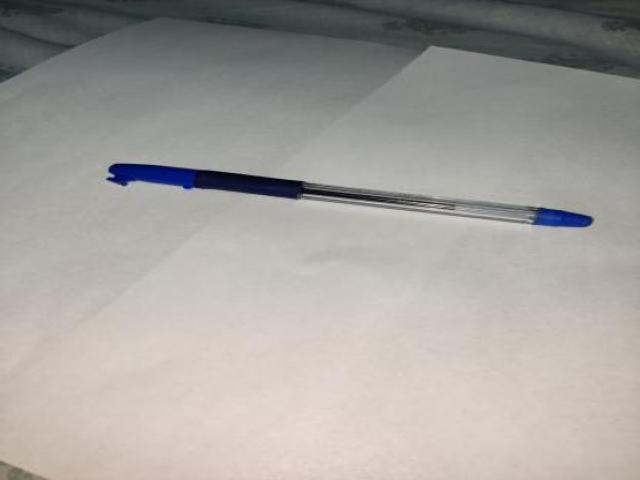PEN: (94, 147, 604, 250)
